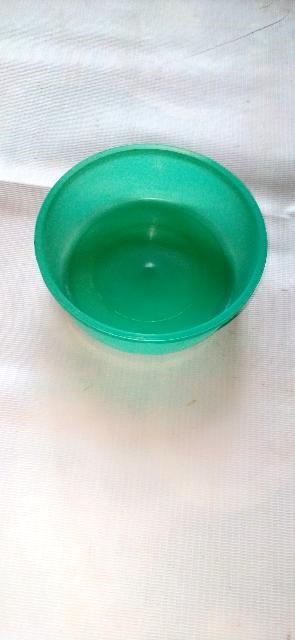hardplastic: (46, 141, 264, 369)
